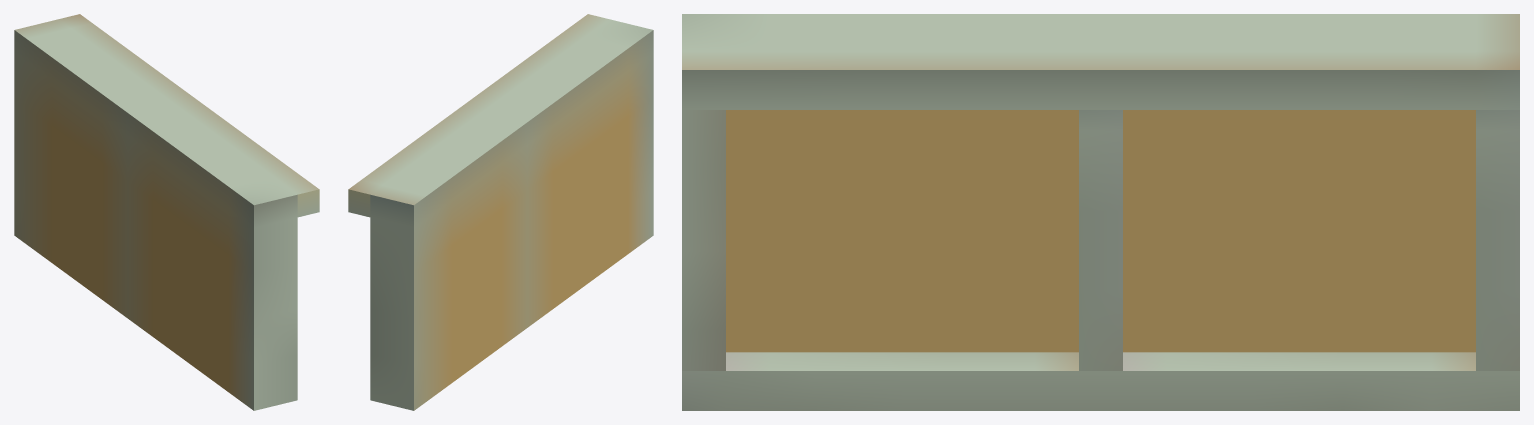
Rendered from WindowFrameMiniInside_01.fbx.
The picture shows the model from 3 angles, left to right: view 1: azimuth 30°, elevation 25°; view 2: azimuth 150°, elevation 25°; view 3: azimuth 270°, elevation 25°; orthographic projection. The views are drawn at different scales.
Visible parts, largest first — view 1: WindowFrameMiniInside_01; view 2: WindowFrameMiniInside_01; view 3: WindowFrameMiniInside_01.
Part boxes in pixels (x1,y1,x2,y2): WindowFrameMiniInside_01: [14, 14, 319, 410]; WindowFrameMiniInside_01: [348, 14, 653, 410]; WindowFrameMiniInside_01: [682, 14, 1519, 410].
Size of the model in its own units: 15 by 95 by 45.
Materials: 1 (1 with a texture image).
